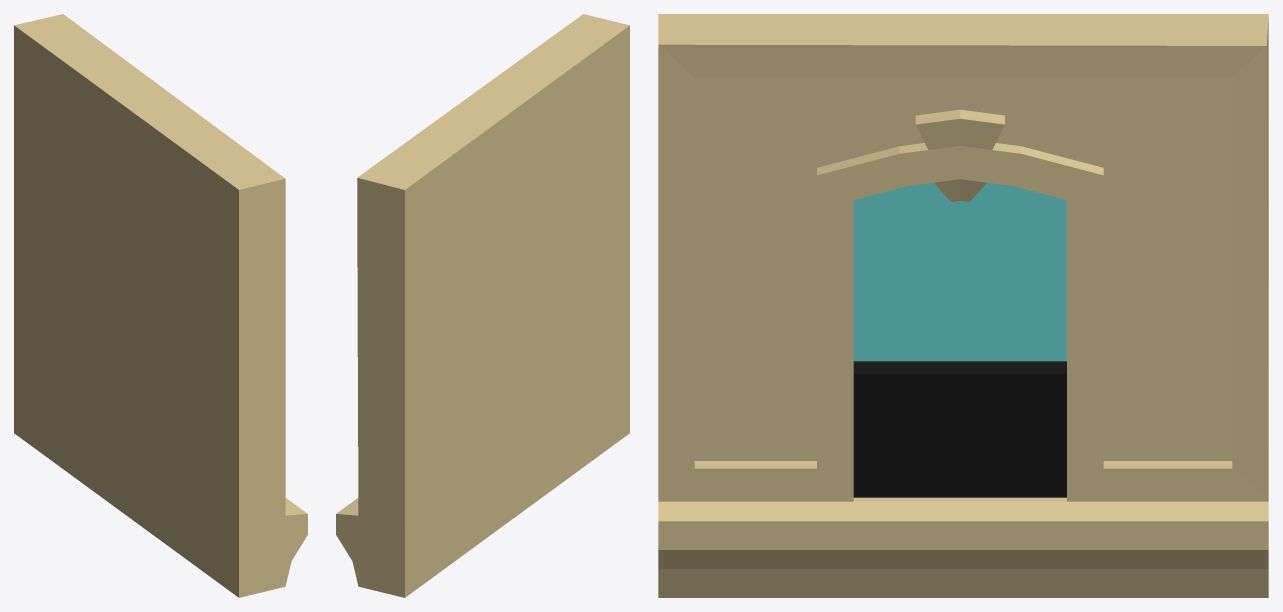
File: FrenchWall2.fbx
3 renders of one model, left to right at view 1: azimuth 30°, elevation 25°; view 2: azimuth 150°, elevation 25°; view 3: azimuth 270°, elevation 25°, orthographic. The views are drawn at different scales.
Visible parts, largest first — view 1: Cube; view 2: Cube; view 3: Cube.
Boxes of the visible parts, <box> form: Cube: <box>14,14,307,597</box>; Cube: <box>336,14,629,597</box>; Cube: <box>658,14,1268,597</box>.
Bounding box in the file's own units: 70.64 × 400 × 400.
